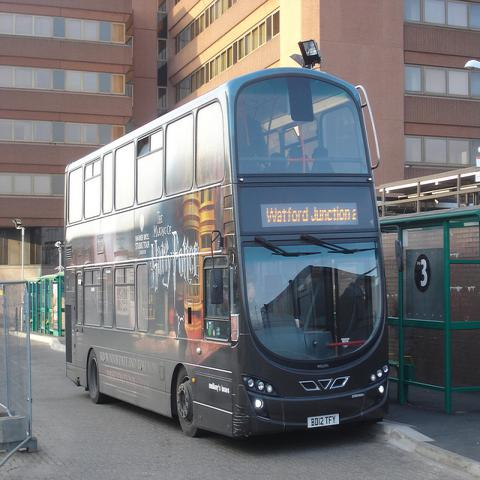bus: (63, 39, 392, 443)
